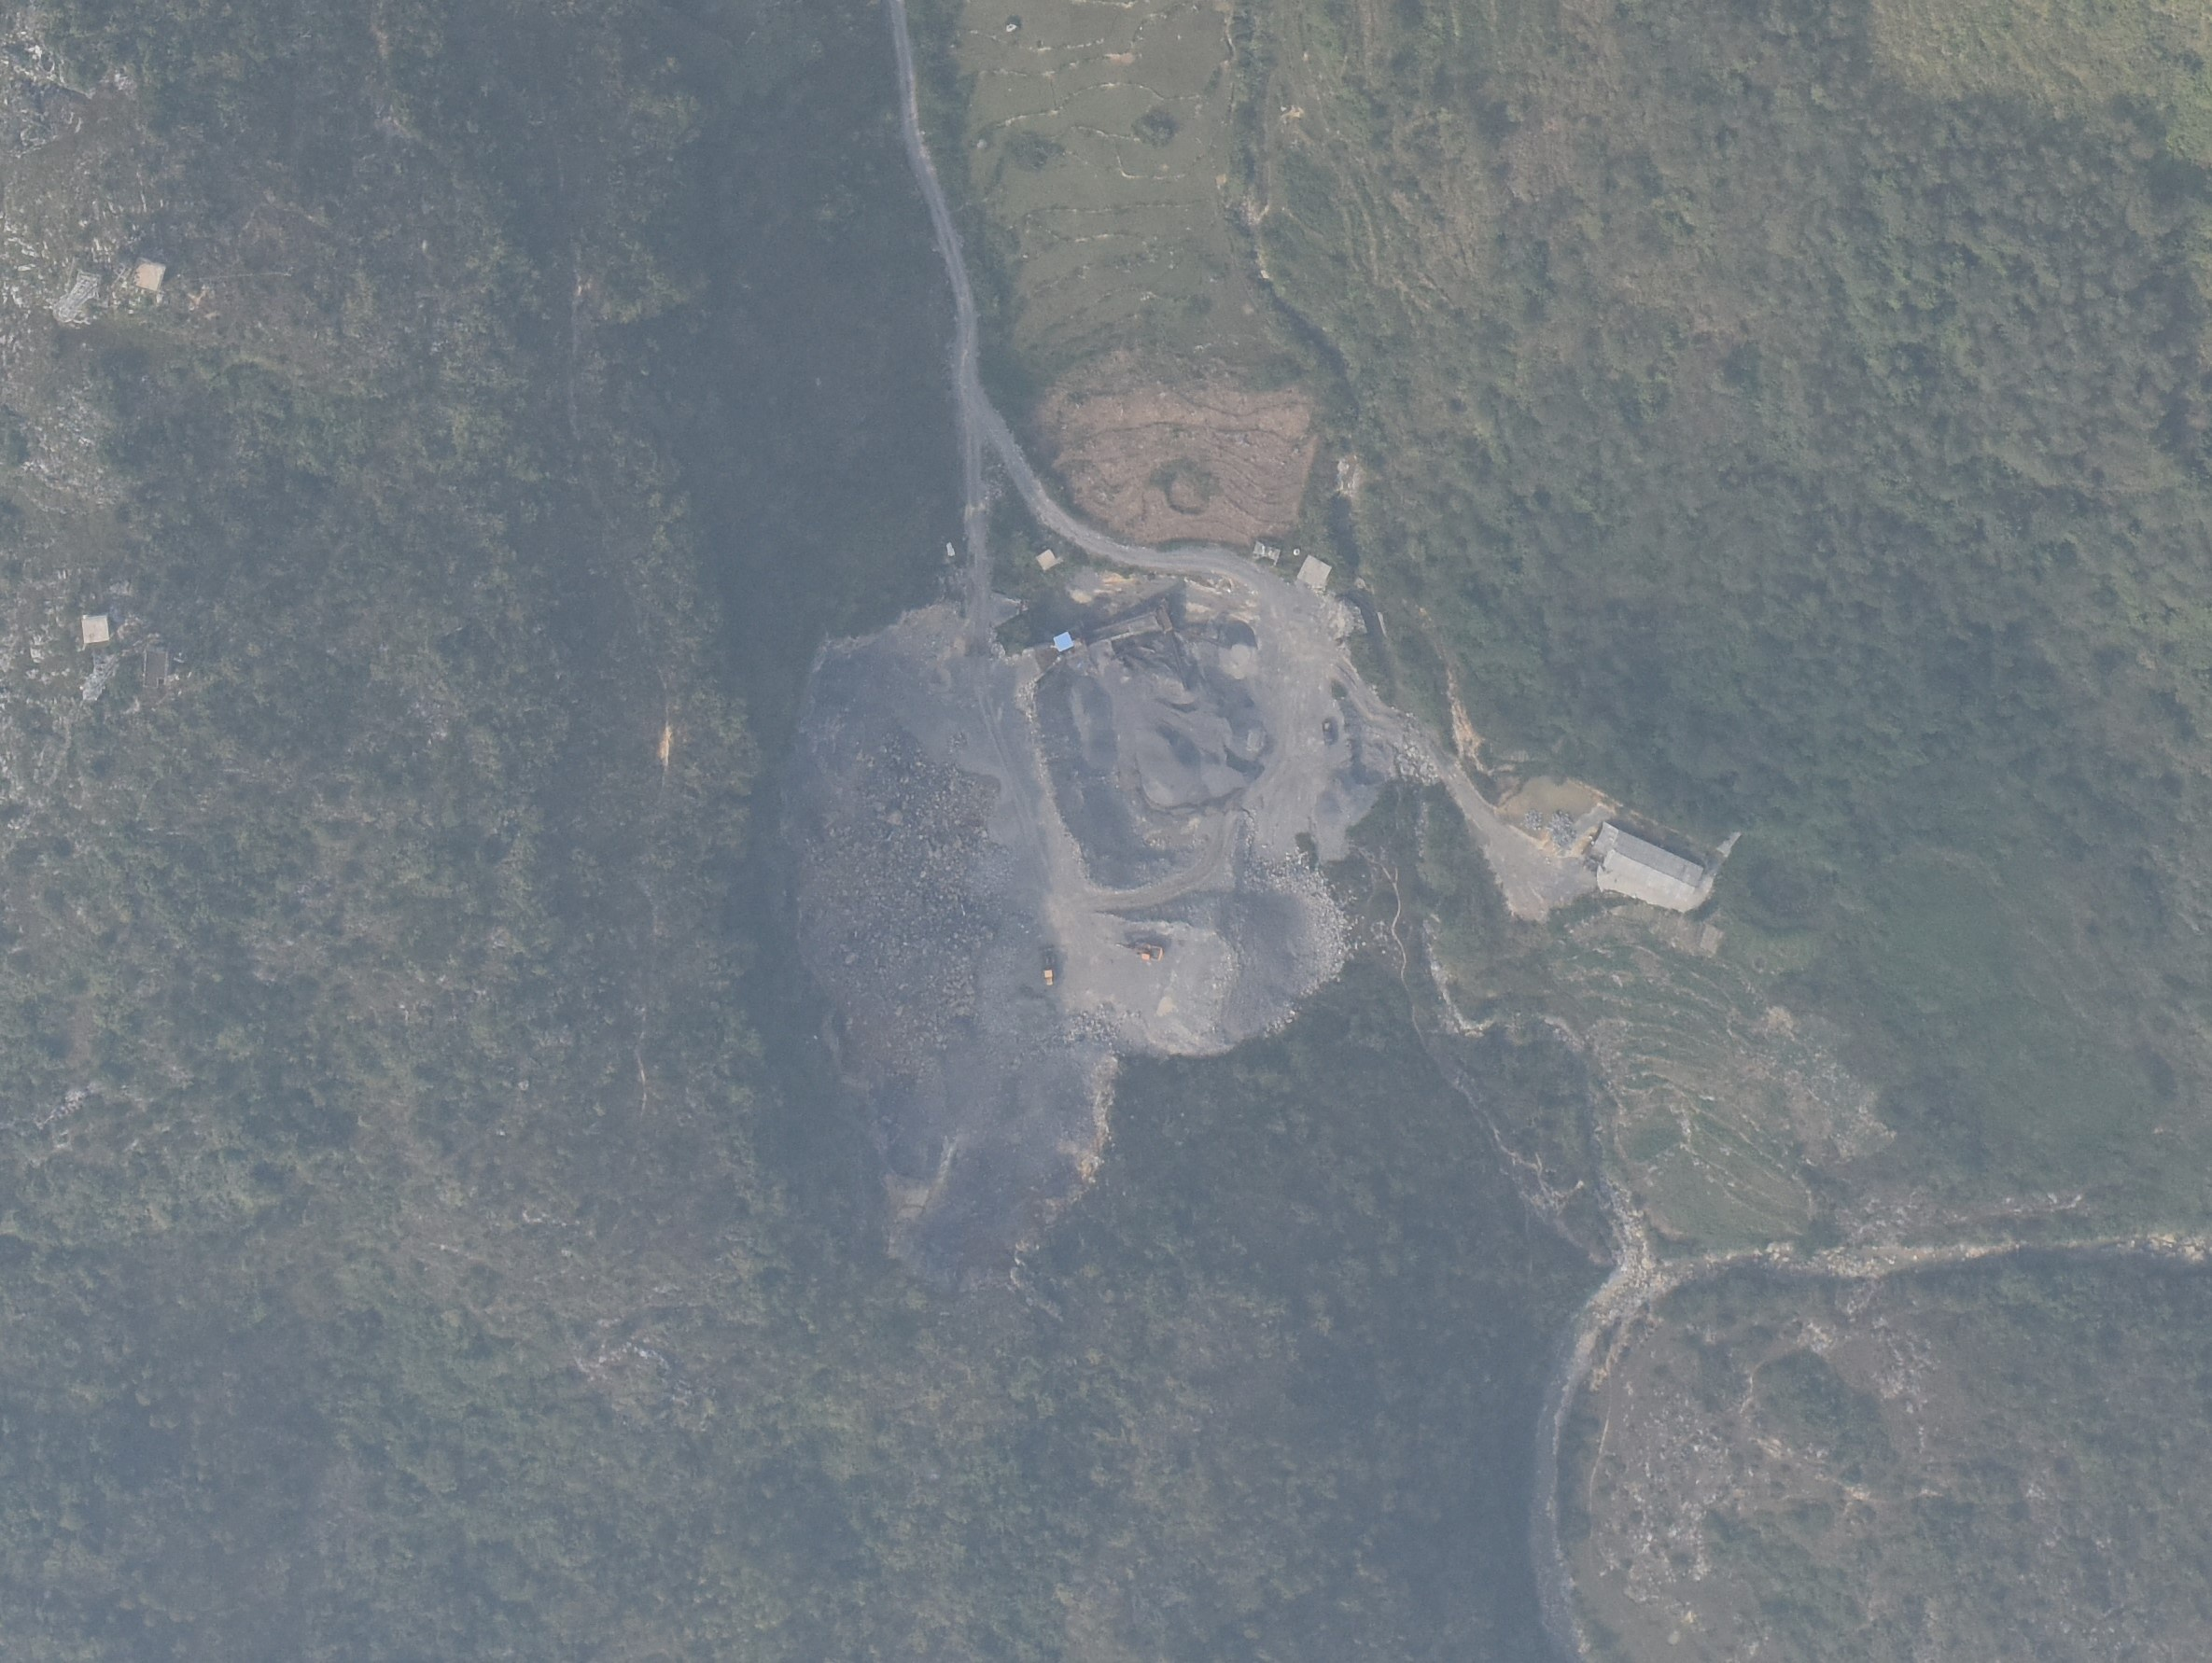building: (1592, 821, 1704, 901), (130, 257, 168, 293), (141, 645, 169, 689), (80, 615, 111, 644)
prefabricated-house: (1054, 631, 1074, 652)
quarry: (772, 539, 1712, 1294)
vehicle: (1113, 942, 1163, 961), (1040, 944, 1056, 986), (1323, 720, 1334, 746)
